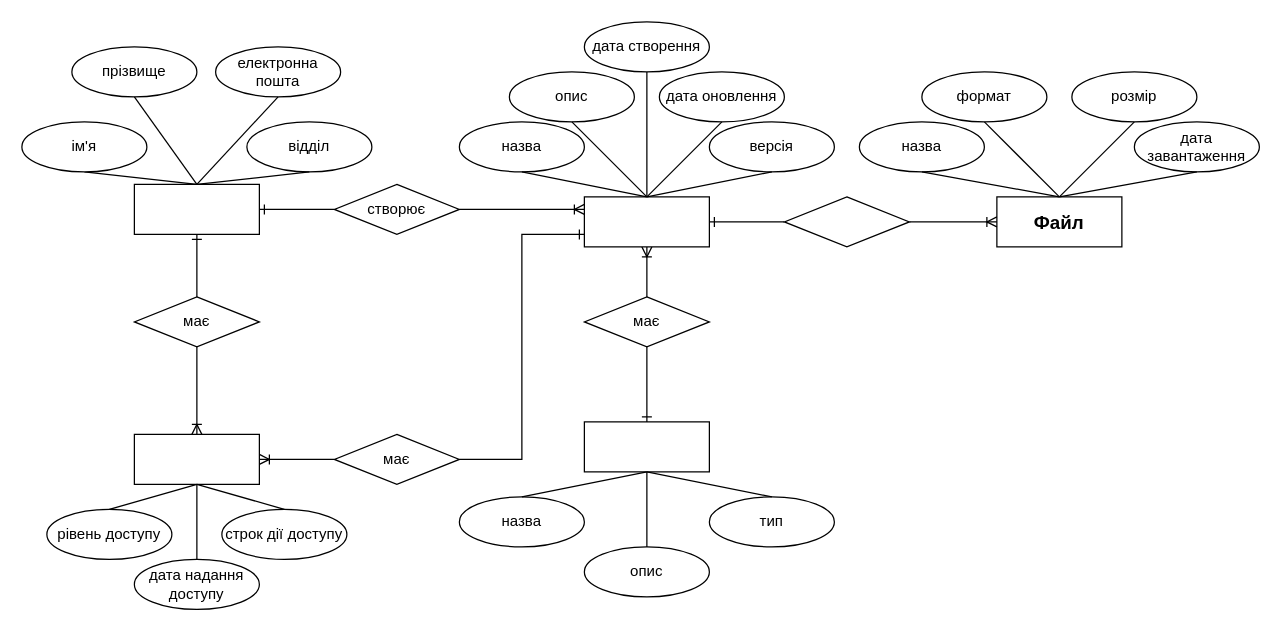
This 1281x631 diagram has some shape labels left out. The shapes that lost their labels are listed below. From the top down, each one's box as (x1, y1, x2, y2) in pixels, then its label:
(133, 183, 259, 234): Працівник
(583, 196, 709, 247): Документ
(783, 196, 909, 247): належить
(133, 433, 259, 484): Доступ
(583, 421, 709, 472): Категорія
